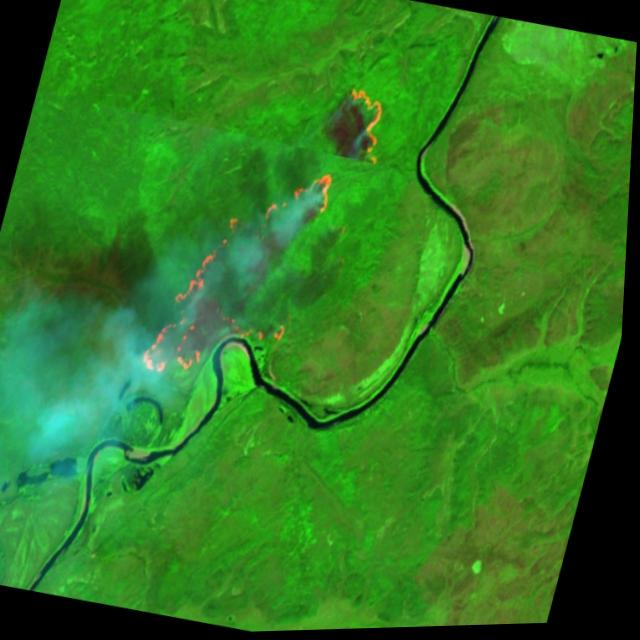fire: (135, 51, 404, 419)
